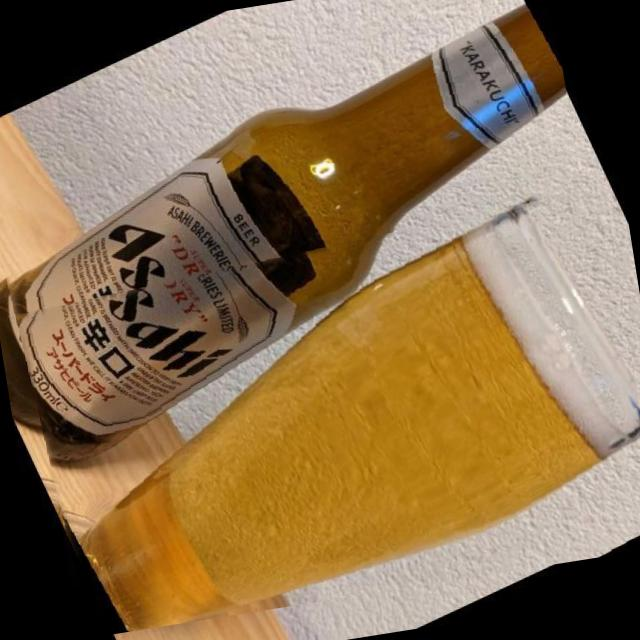Glass: (9, 186, 640, 640), (0, 0, 605, 437)
